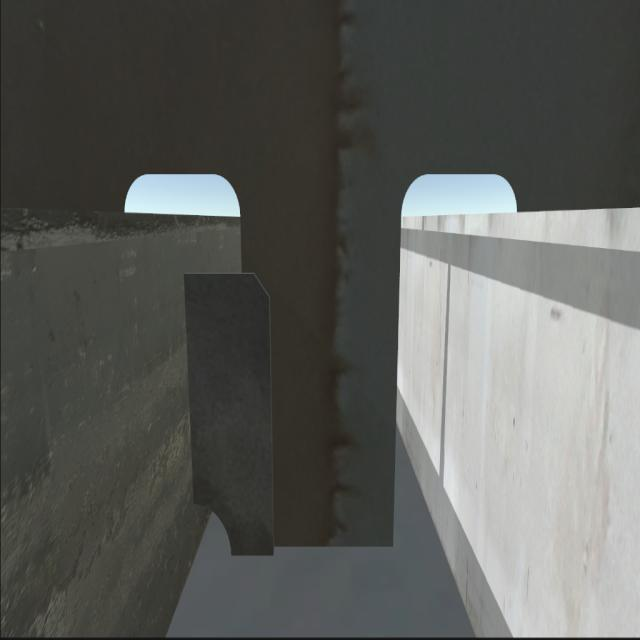fillet_hole: (192, 504, 234, 556)
fillet_yong_jeop_jang: (225, 532, 400, 564)
longi_yong_jeop_jang: (183, 273, 203, 510)
plate_CP03: (188, 276, 276, 558)
